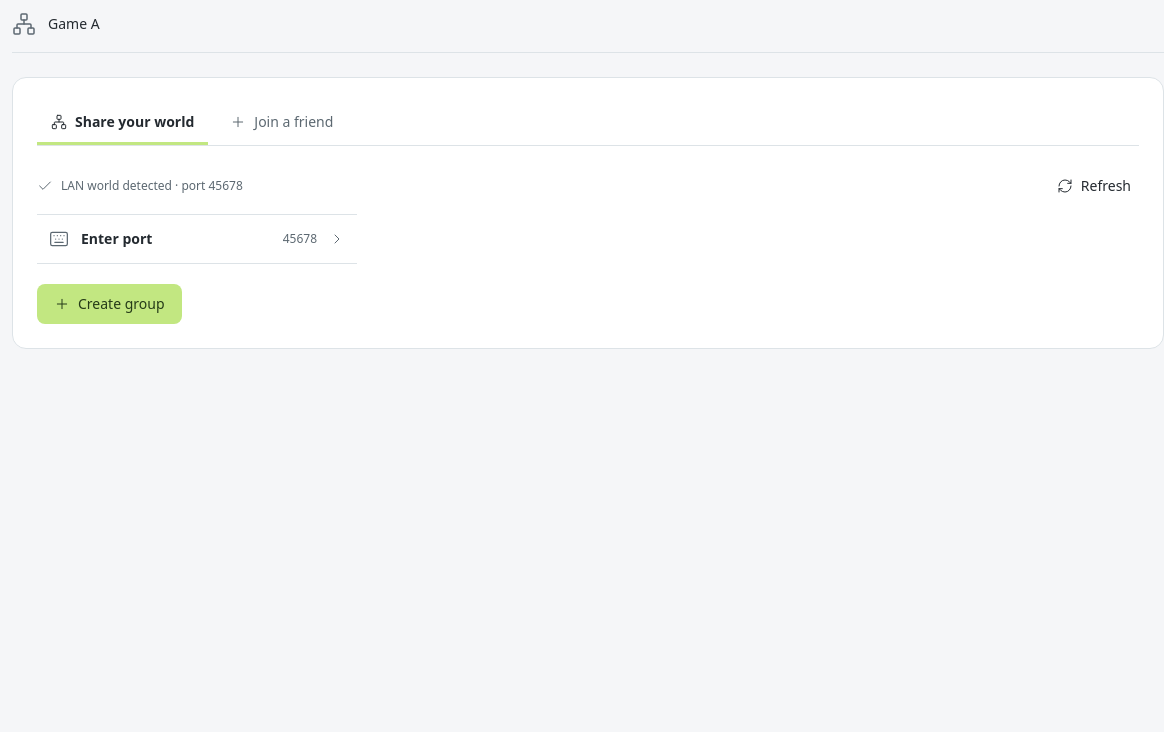
shows a bounded friendly join-denied error rather than guessing full or expired
The image size is (1164, 732).
Click the tab "Join a friend" at (282, 124), box [216,102,347,145]
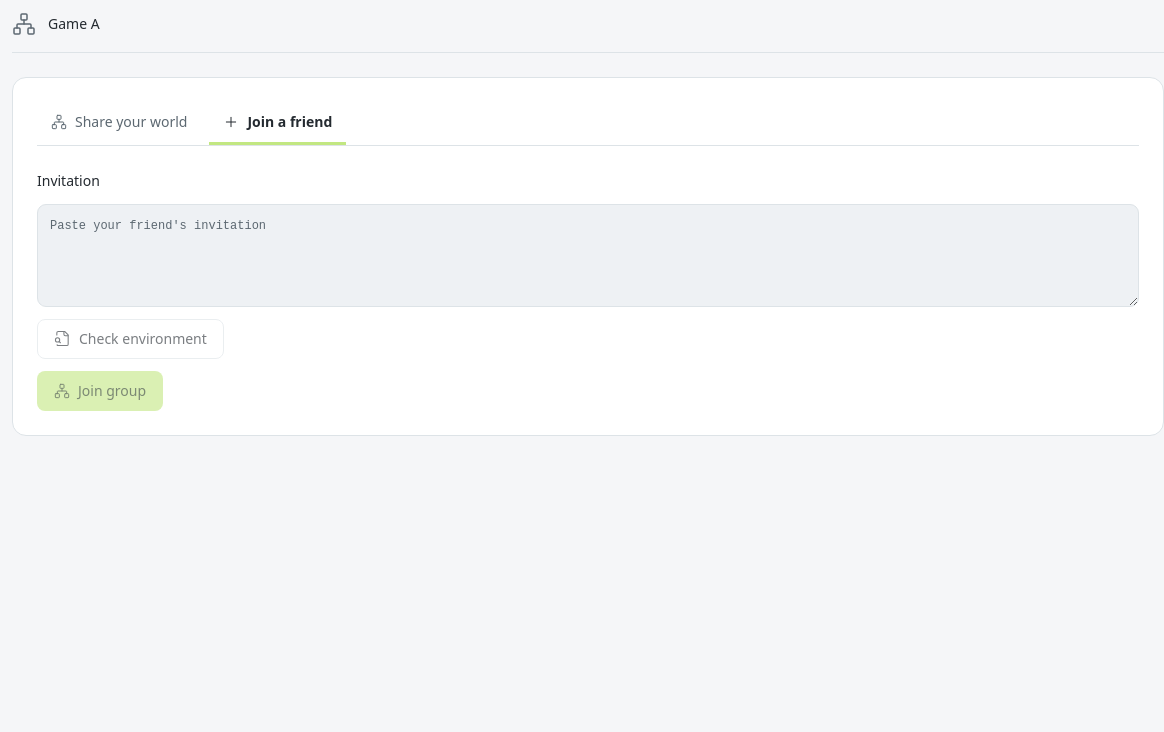
Type "synthetic-invite" into the text box labelled "Invitation" at (588, 255), box [37,204,1139,307]
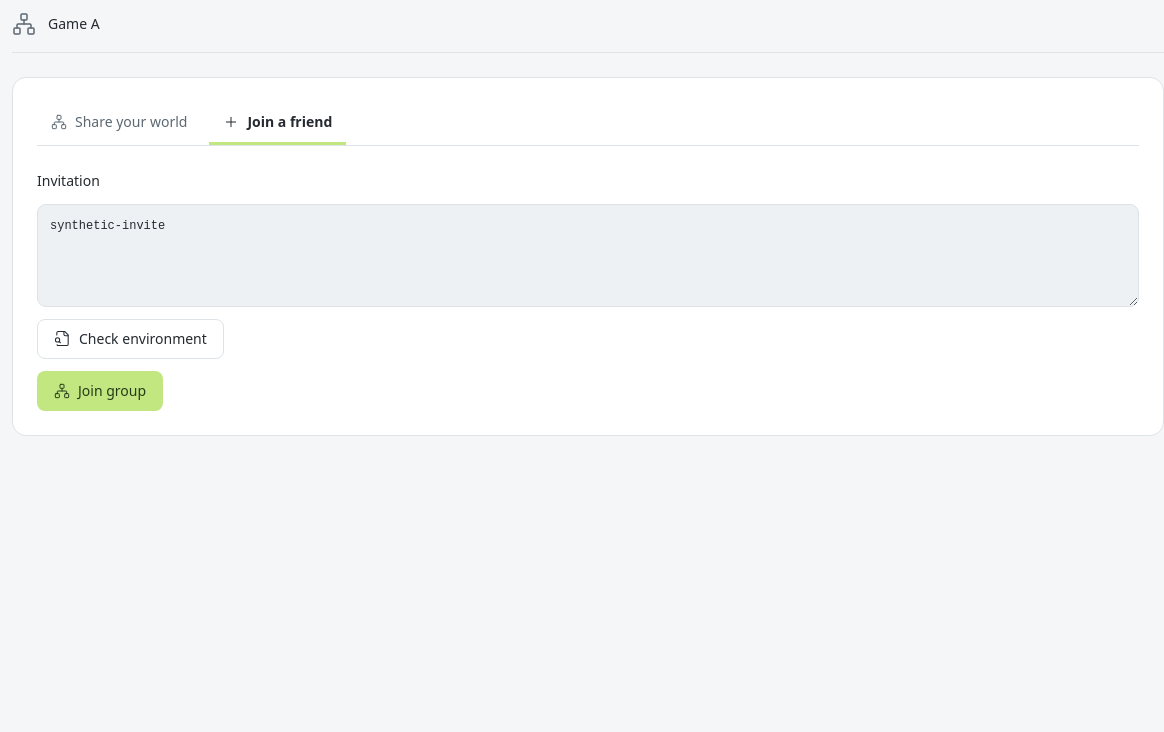
Submit the panel, box [37,170,1139,411]
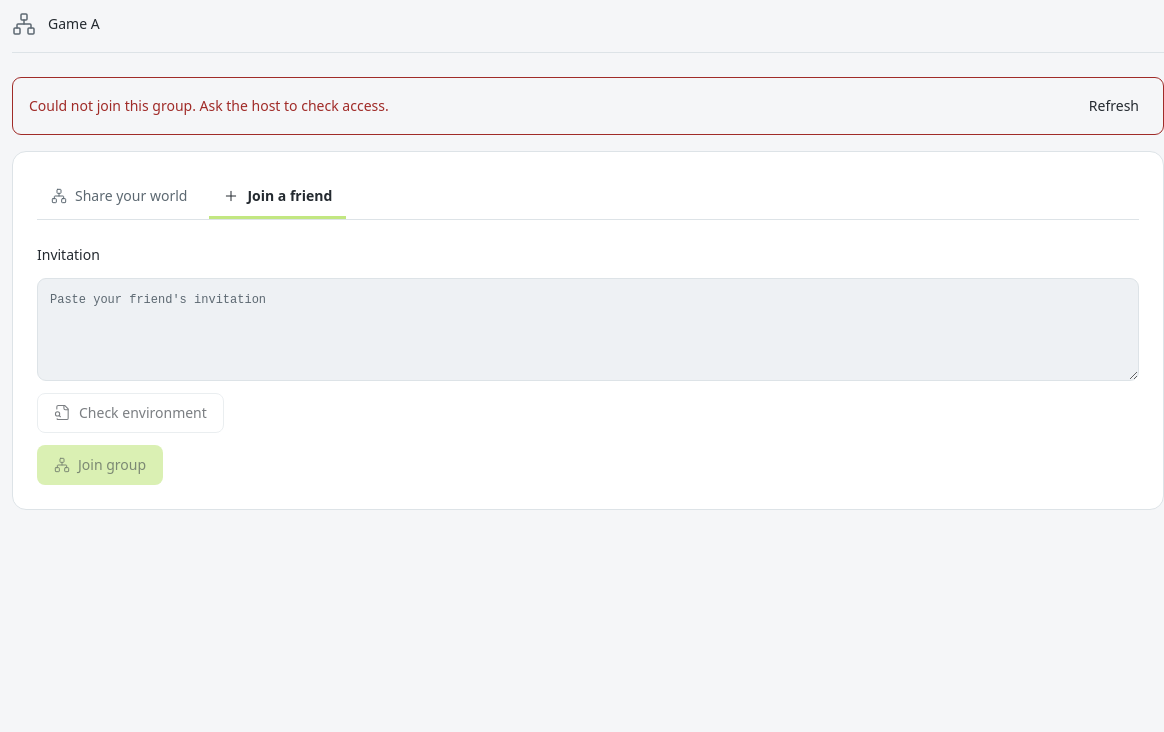
Result: the message "Could not join this group. Ask the host to check access. Refresh" is shown at [12,77,1163,135]
Result: the text box labelled "Invitation" is empty at [37,278,1139,381]
